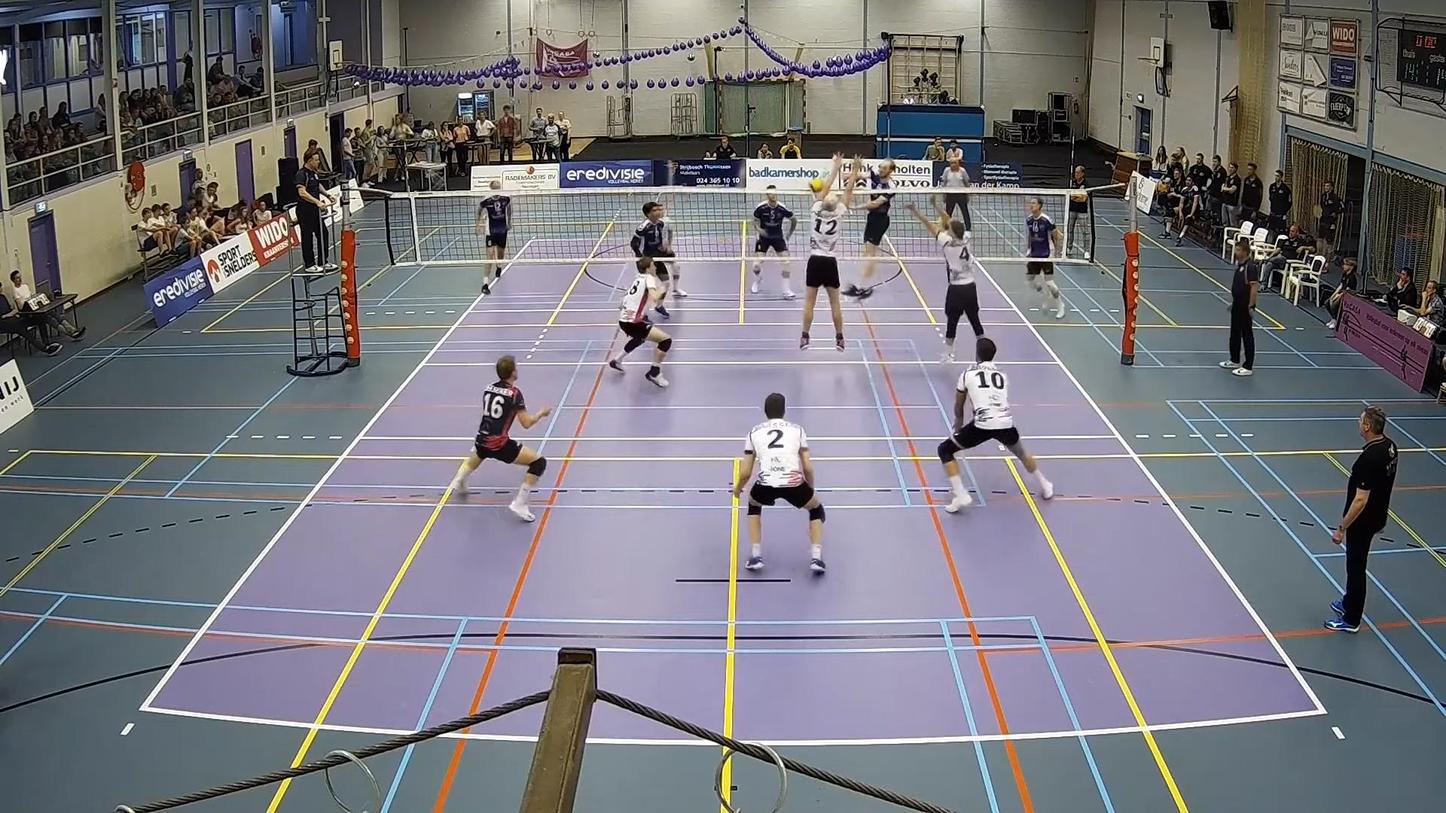attacco: (845, 153, 903, 304)
muro: (906, 197, 999, 368), (795, 157, 854, 353)
